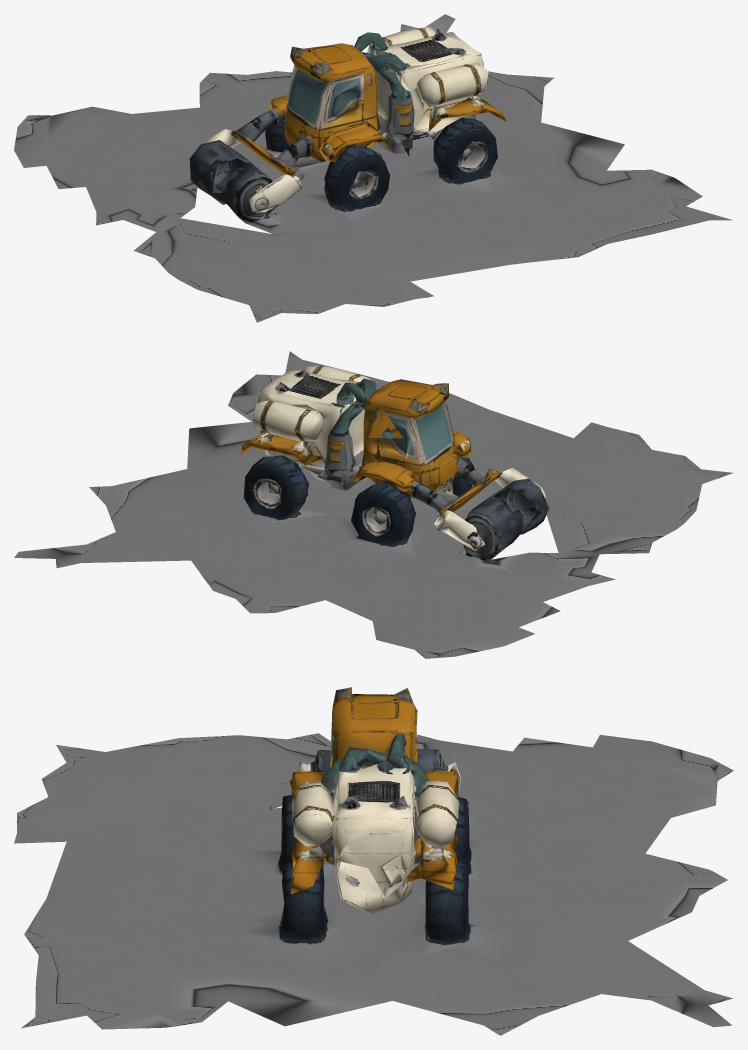
File: burovaya-04.glb
The picture shows the model from 3 angles, top to bottom: view 1: azimuth 30°, elevation 25°; view 2: azimuth 150°, elevation 25°; view 3: azimuth 270°, elevation 25°; orthographic projection. The views are drawn at different scales.
Visible parts, largest first — view 1: geometry_0; view 2: geometry_0; view 3: geometry_0.
Boxes of the visible parts, x1,y1,x2,y2 form: geometry_0: (14, 14, 732, 322); geometry_0: (14, 351, 732, 658); geometry_0: (14, 687, 733, 1035).
Bounding box in the file's own units: 0.9896 × 0.2573 × 0.9926.
1 material, 1 textured.
